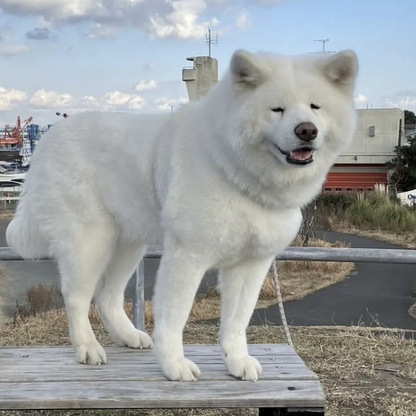akita: (3, 44, 362, 388)
